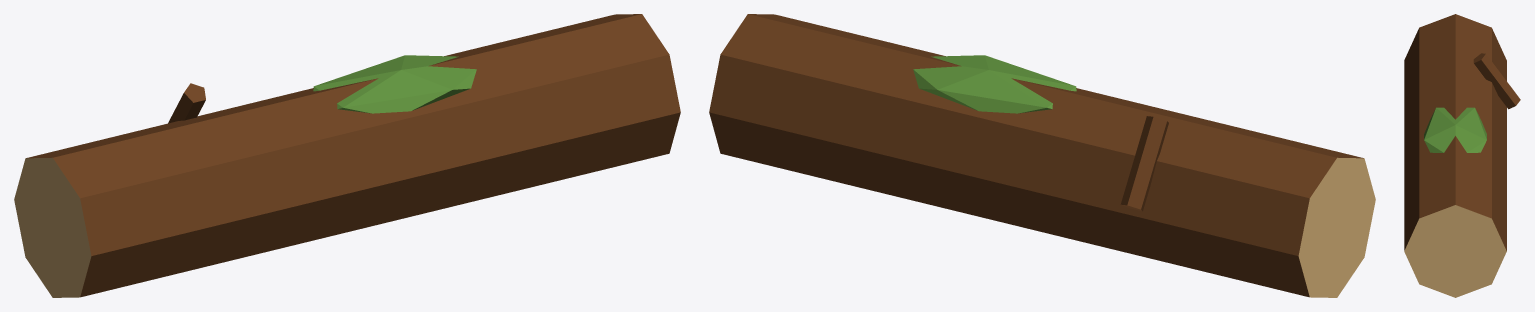
The model's file is nature2_fallen_log.glb.
3 renders of one model, left to right at view 1: azimuth 30°, elevation 25°; view 2: azimuth 150°, elevation 25°; view 3: azimuth 270°, elevation 25°, orthographic. The views are drawn at different scales.
Parts seen in each view (by area): view 1: fallen_log; view 2: fallen_log; view 3: fallen_log.
Part boxes in pixels (box(x1,y1,x2,y2)): fallen_log: box(14, 14, 680, 297); fallen_log: box(709, 14, 1375, 297); fallen_log: box(1404, 14, 1520, 297).
Size of the model in its own units: 2.2 by 0.5664 by 0.5677.
